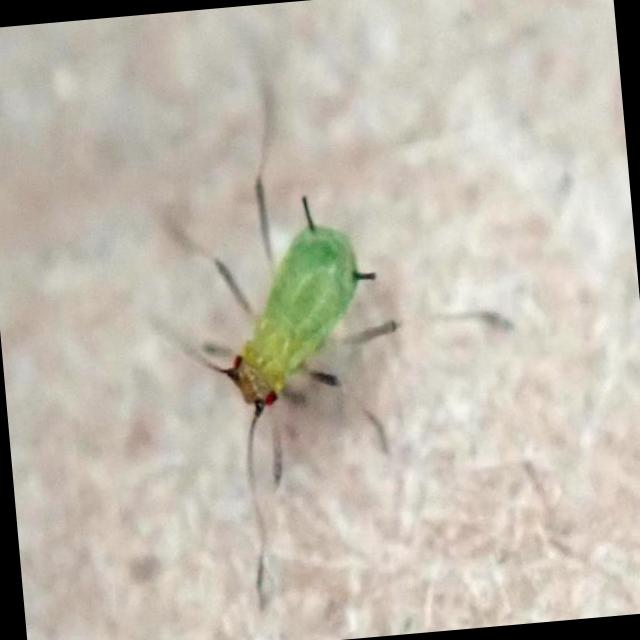aphid: (137, 168, 438, 518)
